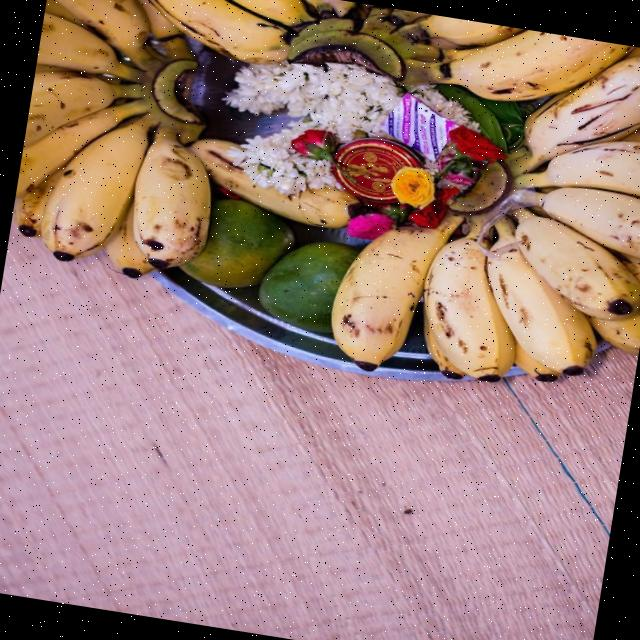banana: (332, 214, 462, 366), (40, 114, 154, 261), (488, 236, 601, 372), (517, 208, 640, 321), (425, 236, 522, 379), (131, 133, 215, 268)
